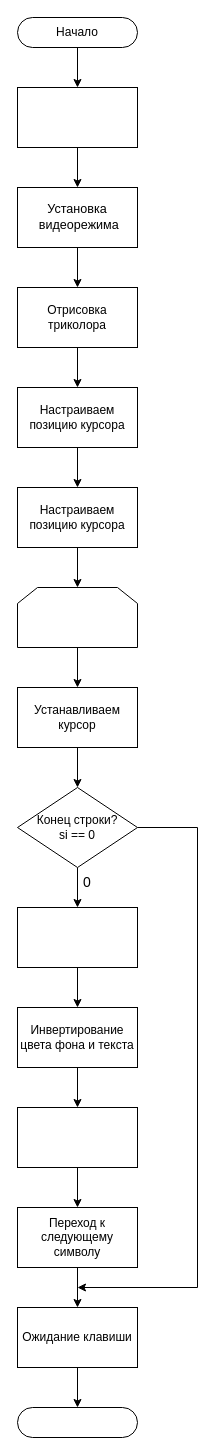
The diagram is 223 pixels wide and 1455 high, and some of its shapes have lost their labels. The centre of each missing label's shape, as x and y in pixels:
"Вывод символа с атрибутом" belongs at point (77, 1137).
"Инициализация сегментов" belongs at point (77, 117).
"Конец" belongs at point (77, 1422).
"Цикл print_loop" belongs at point (77, 617).
"Чтение текущего атрибута" belongs at point (77, 937).
